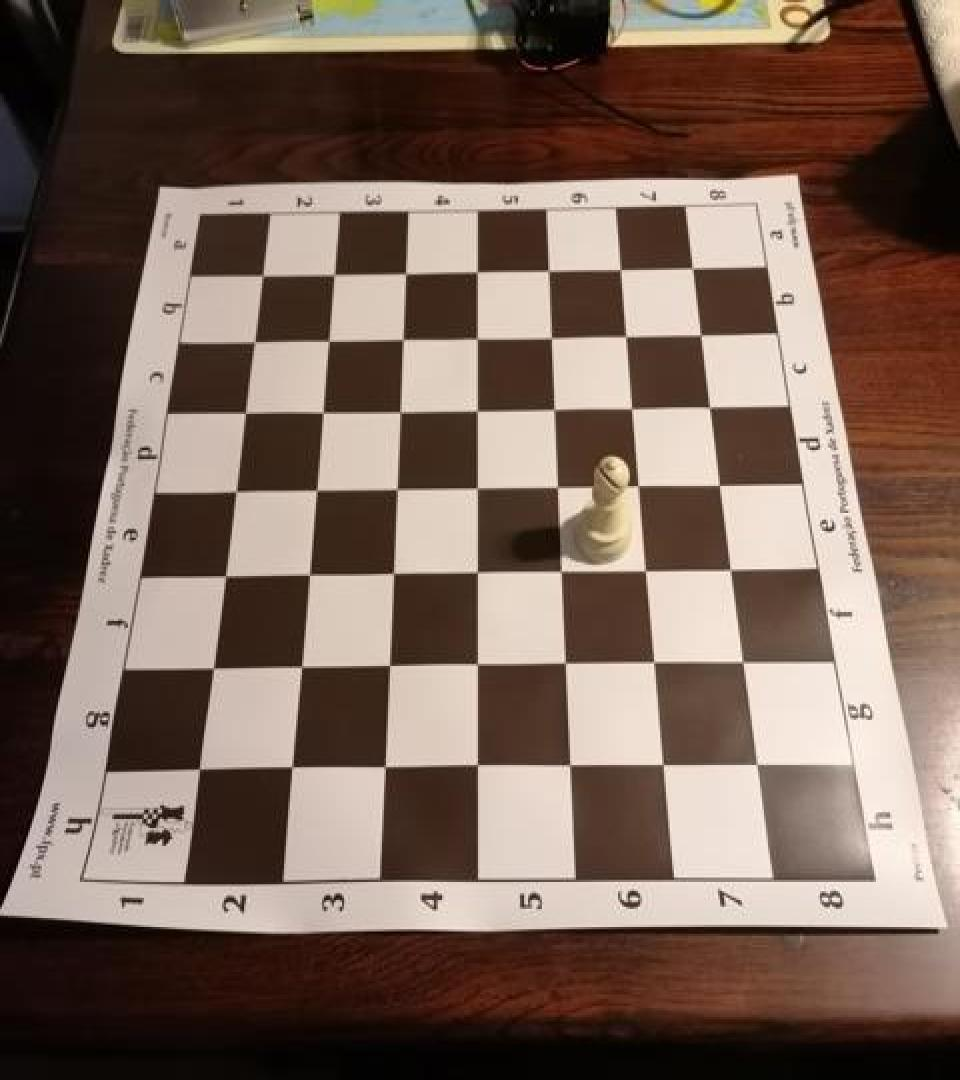xcorner: (679, 251, 711, 287), (605, 252, 637, 288), (532, 253, 564, 289), (459, 256, 491, 292), (386, 256, 418, 292), (314, 258, 346, 294), (242, 260, 274, 296), (687, 317, 719, 353), (611, 320, 643, 356), (535, 320, 567, 356), (459, 322, 491, 358), (383, 323, 415, 359), (308, 325, 340, 361), (234, 326, 266, 362), (617, 392, 649, 428), (537, 392, 569, 428), (458, 394, 490, 430), (380, 395, 412, 431), (302, 396, 334, 432), (224, 397, 256, 433), (706, 469, 738, 505), (623, 470, 655, 506), (540, 470, 572, 506), (458, 472, 490, 508), (376, 472, 408, 508), (295, 474, 327, 510), (214, 475, 246, 511), (717, 554, 749, 590), (630, 554, 662, 590), (543, 556, 575, 592), (457, 557, 489, 593), (372, 558, 404, 594), (287, 559, 319, 595), (203, 559, 235, 595), (728, 648, 760, 684), (637, 648, 669, 684), (547, 649, 579, 685), (457, 650, 489, 686), (368, 650, 400, 686), (279, 652, 311, 688), (191, 652, 223, 688), (741, 750, 773, 786), (645, 750, 677, 786), (551, 752, 583, 788), (456, 752, 488, 788), (363, 752, 395, 788), (270, 752, 302, 788), (177, 752, 209, 788), (696, 391, 728, 426)
